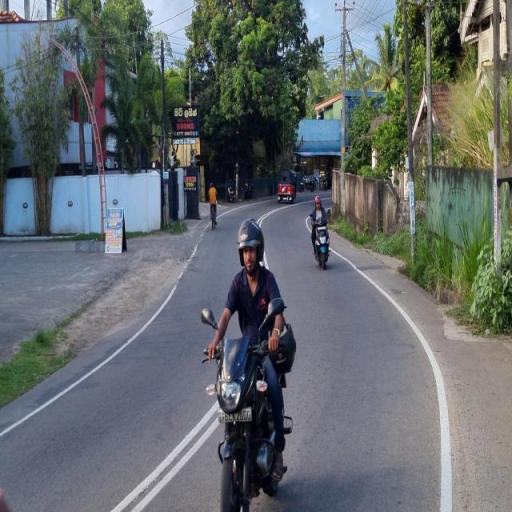double_white_line: (0, 208, 218, 438), (110, 401, 216, 512)
